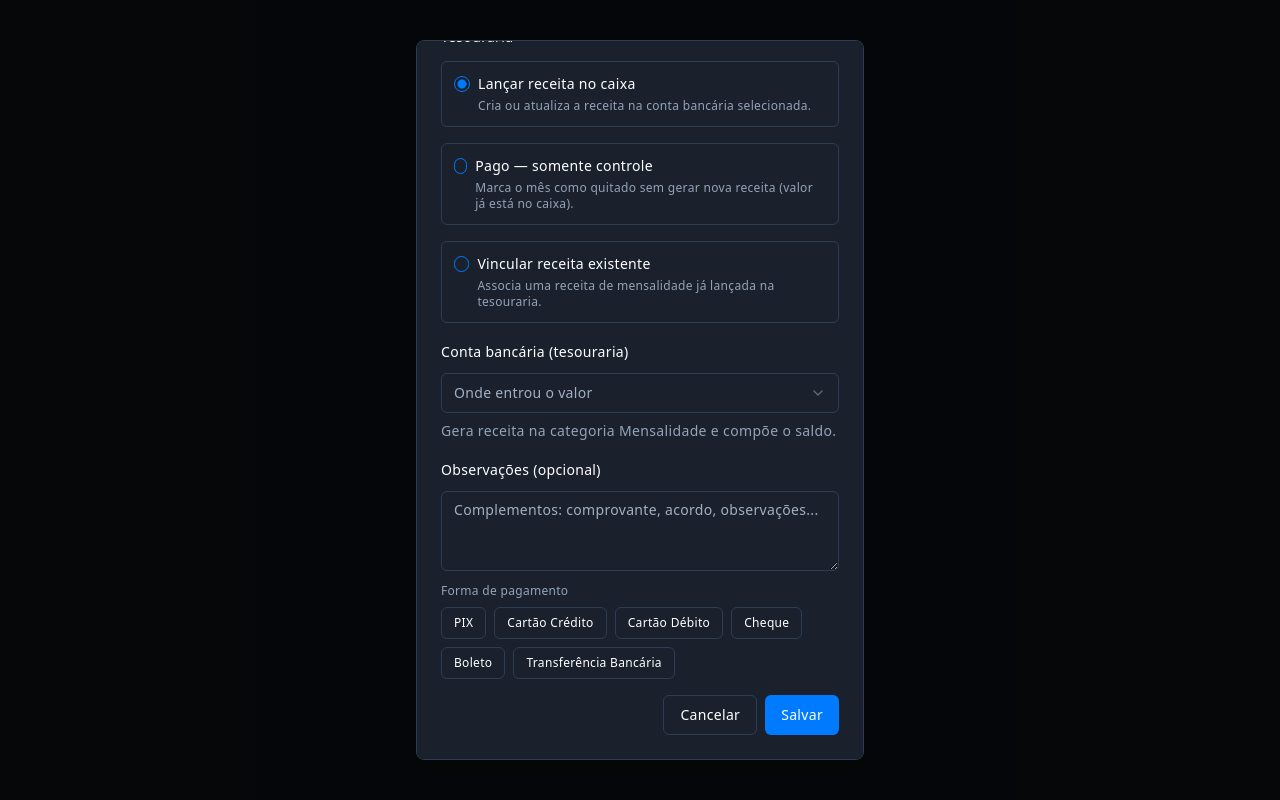
it: ContributionDialog (lançamento novo) › orienta o lançamento do mês e exige conta bancária para Pago
The image size is (1280, 800).
(page scrolled)
What coordinates should you click on to do the following:
click the button "Salvar"
I would click on:
 (802, 715)
Its box is [765,695,839,735].
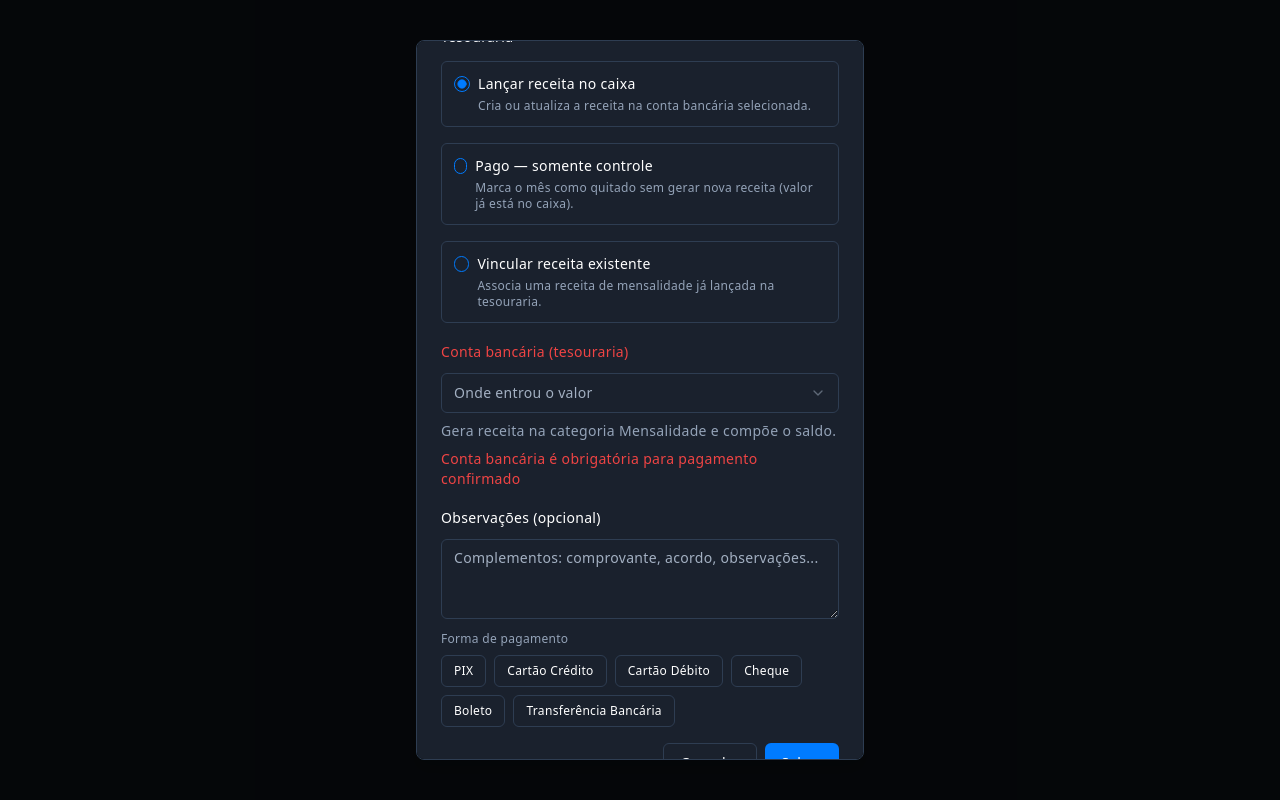
Expected: the text "Conta bancária é obrigatória para pagamento confirmado" is shown, [441,449,758,488]
